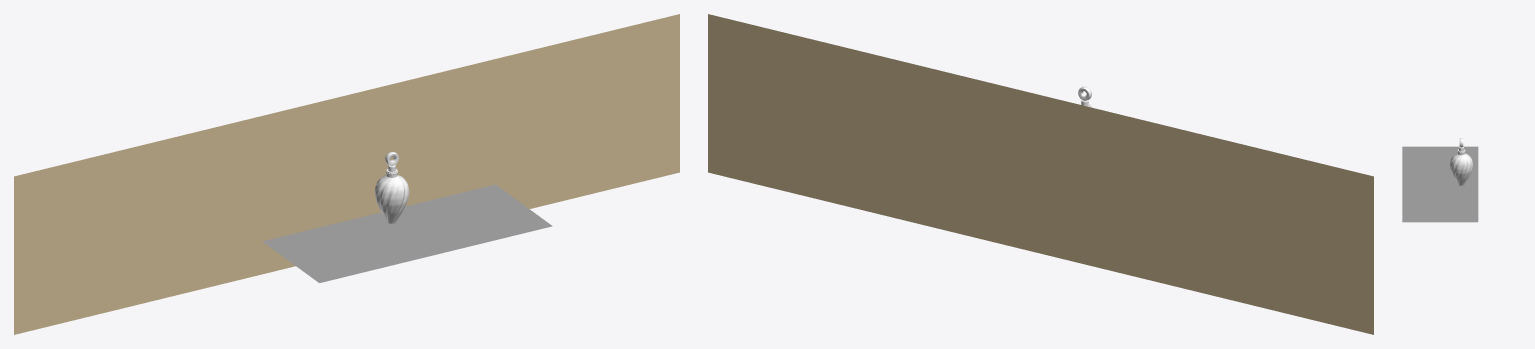
Rendered from lebeni-original.glb.
The picture shows the model from 3 angles, left to right: view 1: azimuth 30°, elevation 25°; view 2: azimuth 150°, elevation 25°; view 3: azimuth 270°, elevation 25°; orthographic projection. The views are drawn at different scales.
Parts seen in each view (by area): view 1: Plane.001, Plane, Circle; view 2: Plane.001; view 3: Plane, Circle.
Boxes of the visible parts, x1,y1,x2,y2 form: Plane.001: (14, 14, 679, 334); Plane: (262, 184, 552, 282); Circle: (374, 161, 409, 223); Plane.001: (708, 14, 1373, 334); Plane: (1402, 146, 1478, 222); Circle: (1450, 147, 1472, 185).
Bounding box in the file's own units: 46.96 × 10.68 × 10.89.
